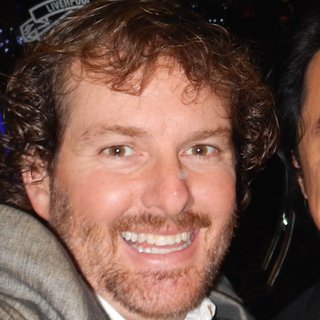eye: (95, 140, 142, 164), (180, 140, 223, 164)
